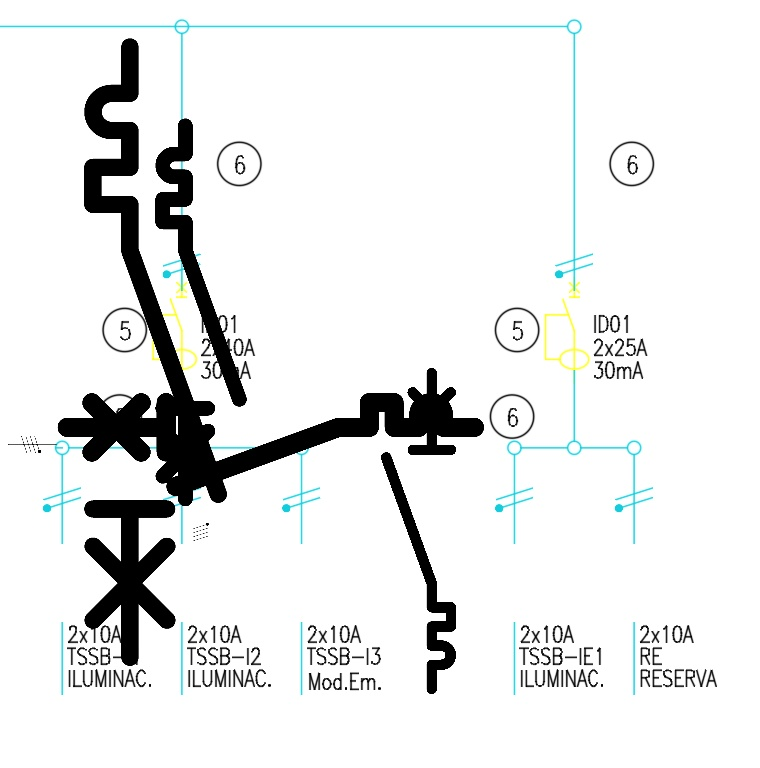interruptor_termomagnetico: (77, 31, 234, 673), (56, 392, 484, 497), (153, 116, 249, 508), (378, 365, 459, 697)
